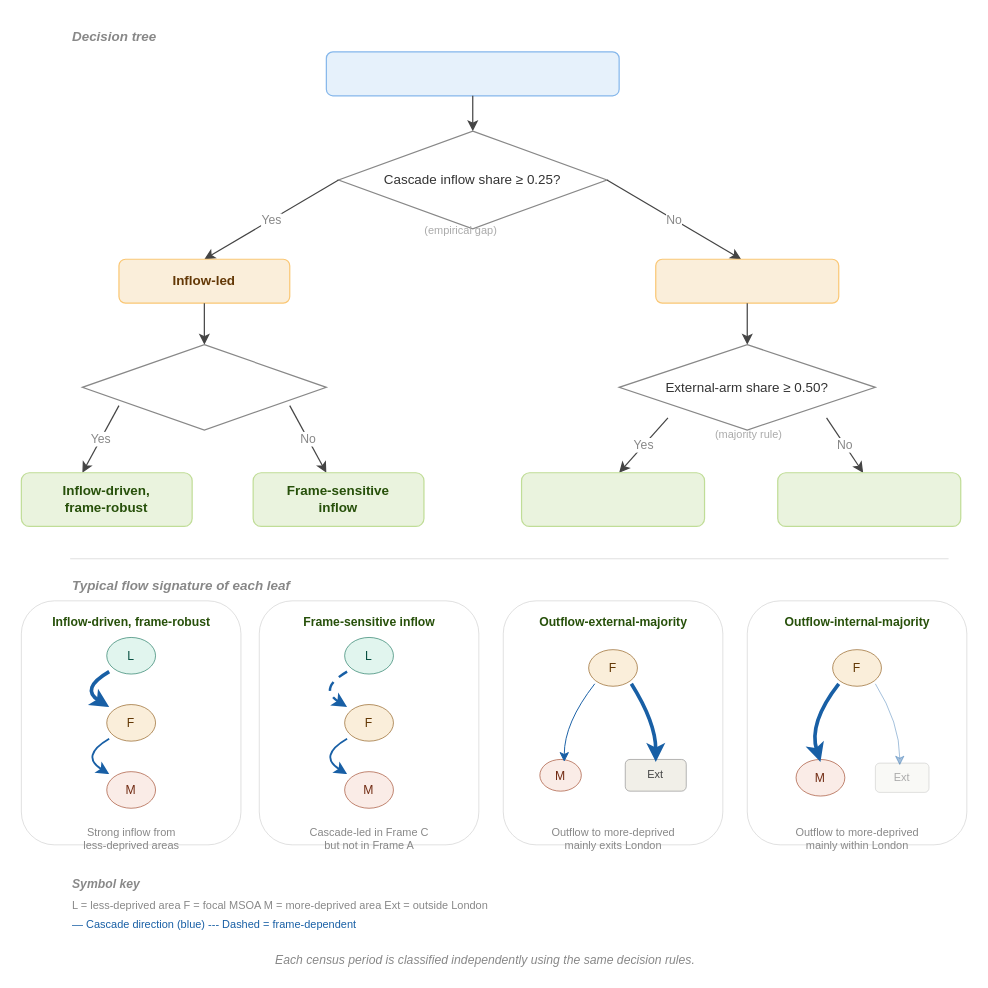
This 988x988 diagram has some shape labels left out. Each missing label, with the centre of its shape:
"Cascade-led in Frame A?" goes at pixel 203 386.
"Frame C cascade-led MSOAs" goes at pixel 472 73.
"Outflow-dominated" goes at pixel 747 280.
"Outflow-external- majority" goes at pixel 612 499.
"Outflow-internal- majority" goes at pixel 869 499.
